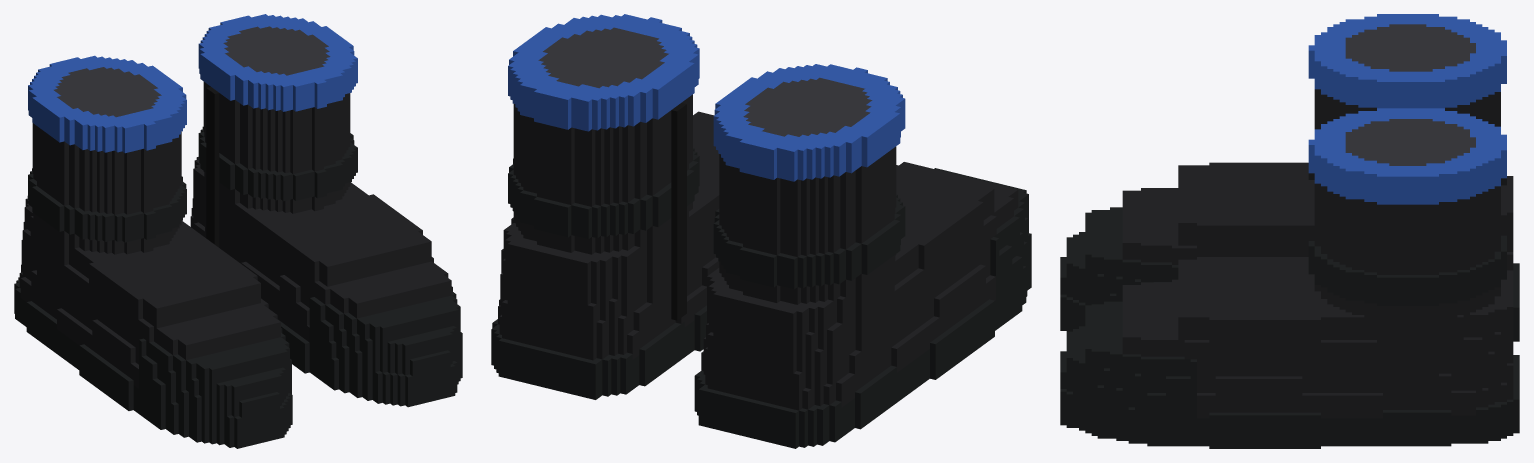
Rendered from wetsuit_booties_thick.glb.
3 renders of one model, left to right at view 1: azimuth 30°, elevation 25°; view 2: azimuth 150°, elevation 25°; view 3: azimuth 270°, elevation 25°, orthographic. The views are drawn at different scales.
Visible parts, largest first — view 1: wetsuit_booties_thick:compound; view 2: wetsuit_booties_thick:compound; view 3: wetsuit_booties_thick:compound.
Boxes of the visible parts, x1,y1,x2,y2 form: wetsuit_booties_thick:compound: (14,14,462,448); wetsuit_booties_thick:compound: (491,14,1031,448); wetsuit_booties_thick:compound: (1060,14,1519,448).
Bounding box in the file's own units: 0.256 × 0.192 × 0.296.
